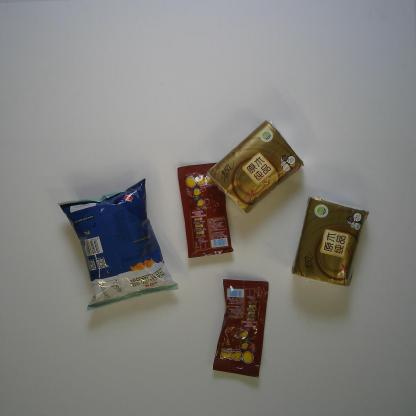Candy: (212, 278, 269, 378), (178, 163, 234, 258)
Puffed Food: (56, 176, 179, 314)
Tissue: (207, 120, 304, 214), (290, 194, 370, 287)
